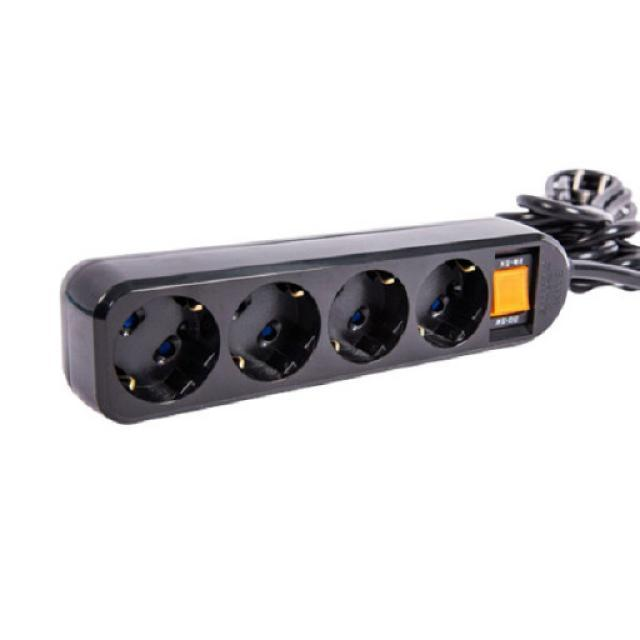typeb: (54, 162, 597, 534)
